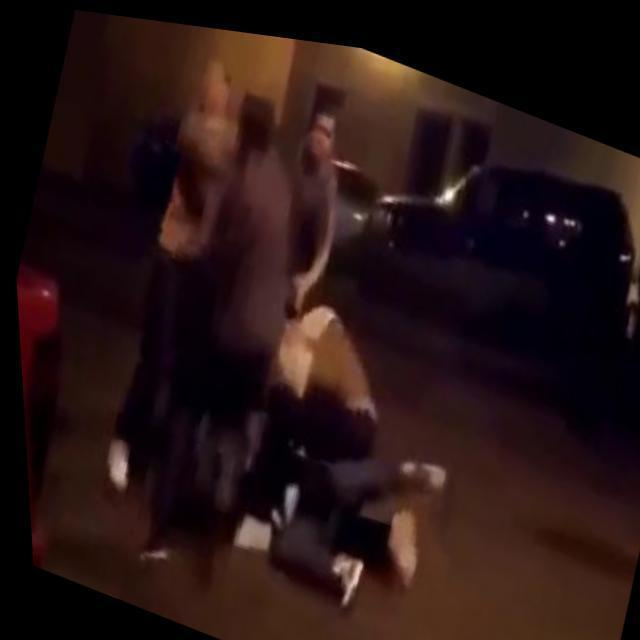fight: (153, 259, 485, 632), (122, 38, 336, 350)
